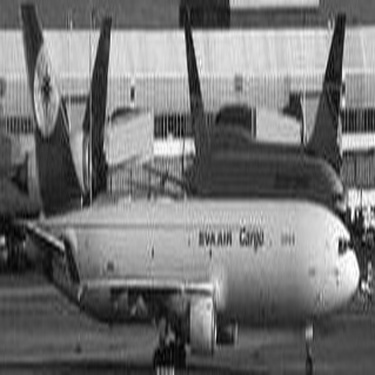airplane: (7, 6, 370, 368), (164, 5, 348, 222), (4, 4, 131, 218), (201, 17, 360, 181)
